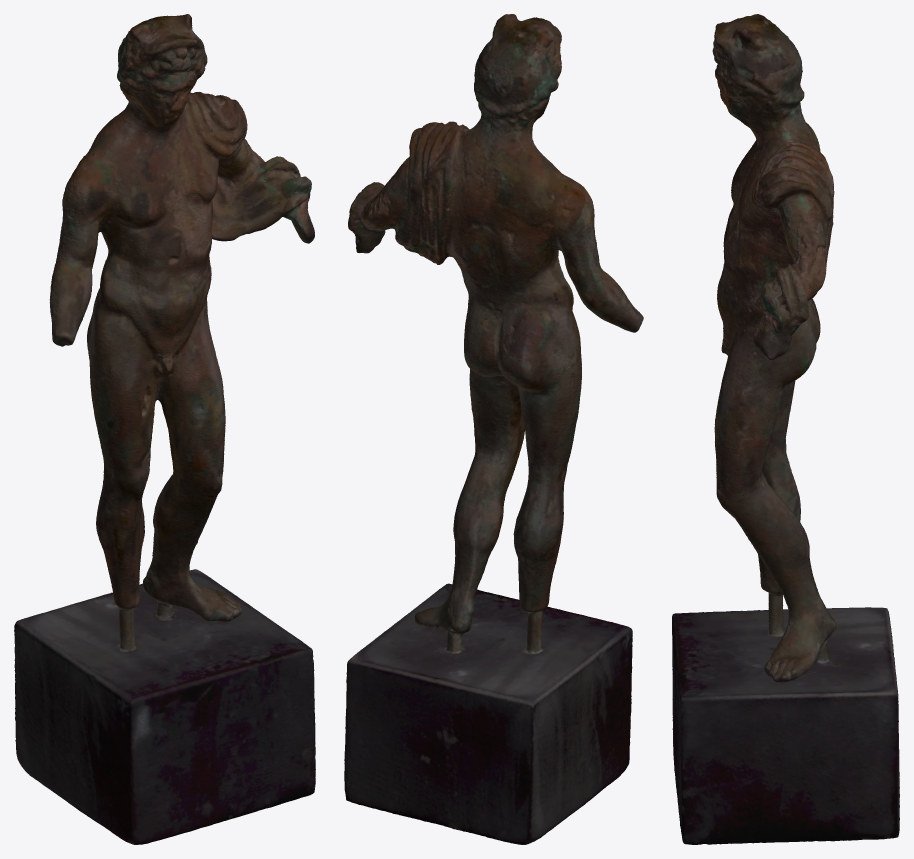
Rendered from mercure_gaulois_bronze.glb.
3 renders of one model, left to right at view 1: azimuth 30°, elevation 25°; view 2: azimuth 150°, elevation 25°; view 3: azimuth 270°, elevation 25°, orthographic. The views are drawn at different scales.
Visible parts, largest first — view 1: Object_2; view 2: Object_2; view 3: Object_2.
Boxes of the visible parts, <box> form: Object_2: <box>14,14,315,844</box>; Object_2: <box>344,14,643,844</box>; Object_2: <box>672,14,899,844</box>.
Size of the model in its own units: 53.88 by 146 by 38.77.
1 material, 1 textured.
